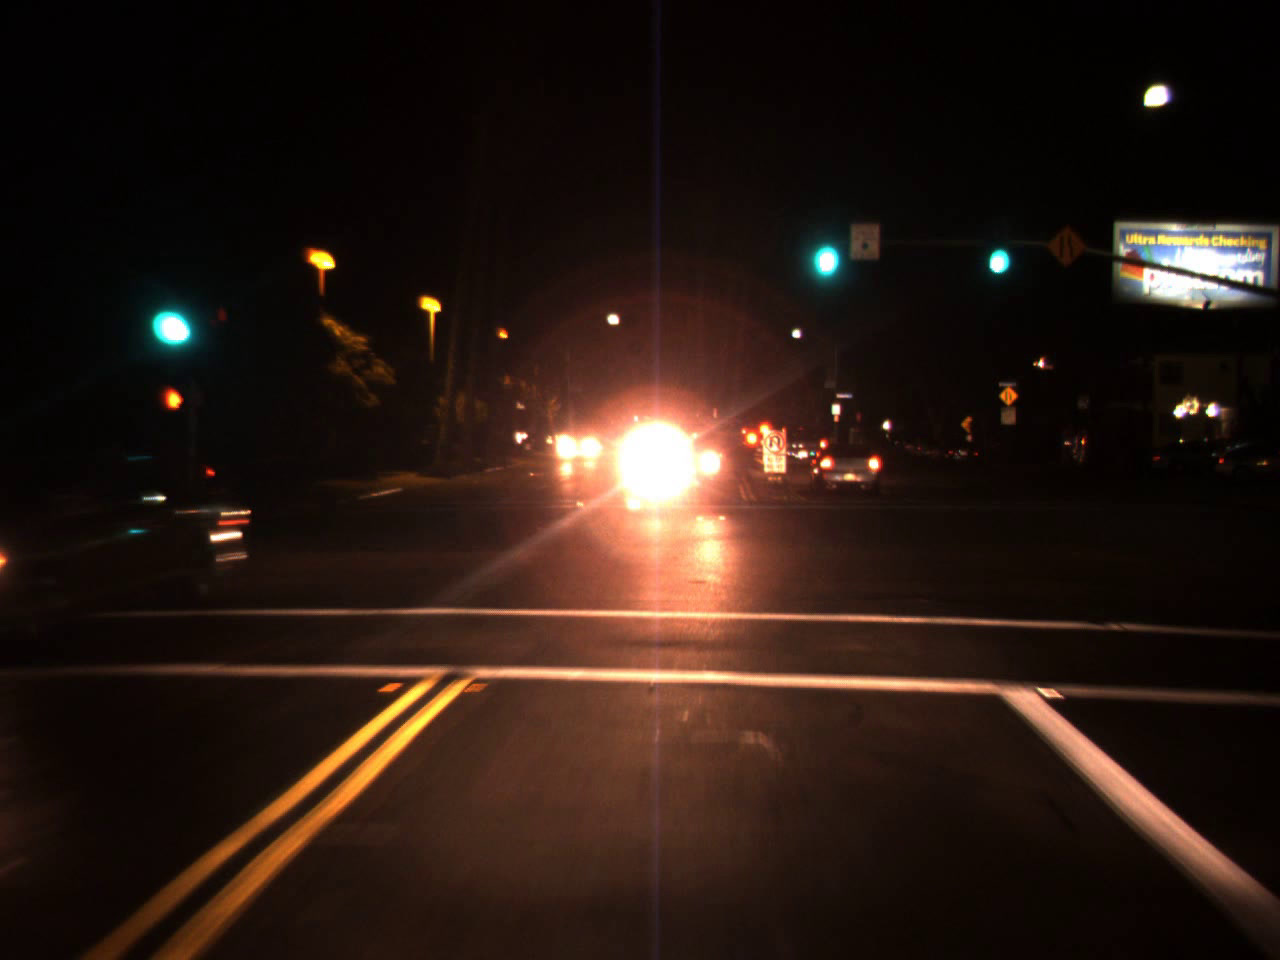go: (148, 272, 194, 356), (802, 205, 845, 289), (981, 215, 1013, 284)
